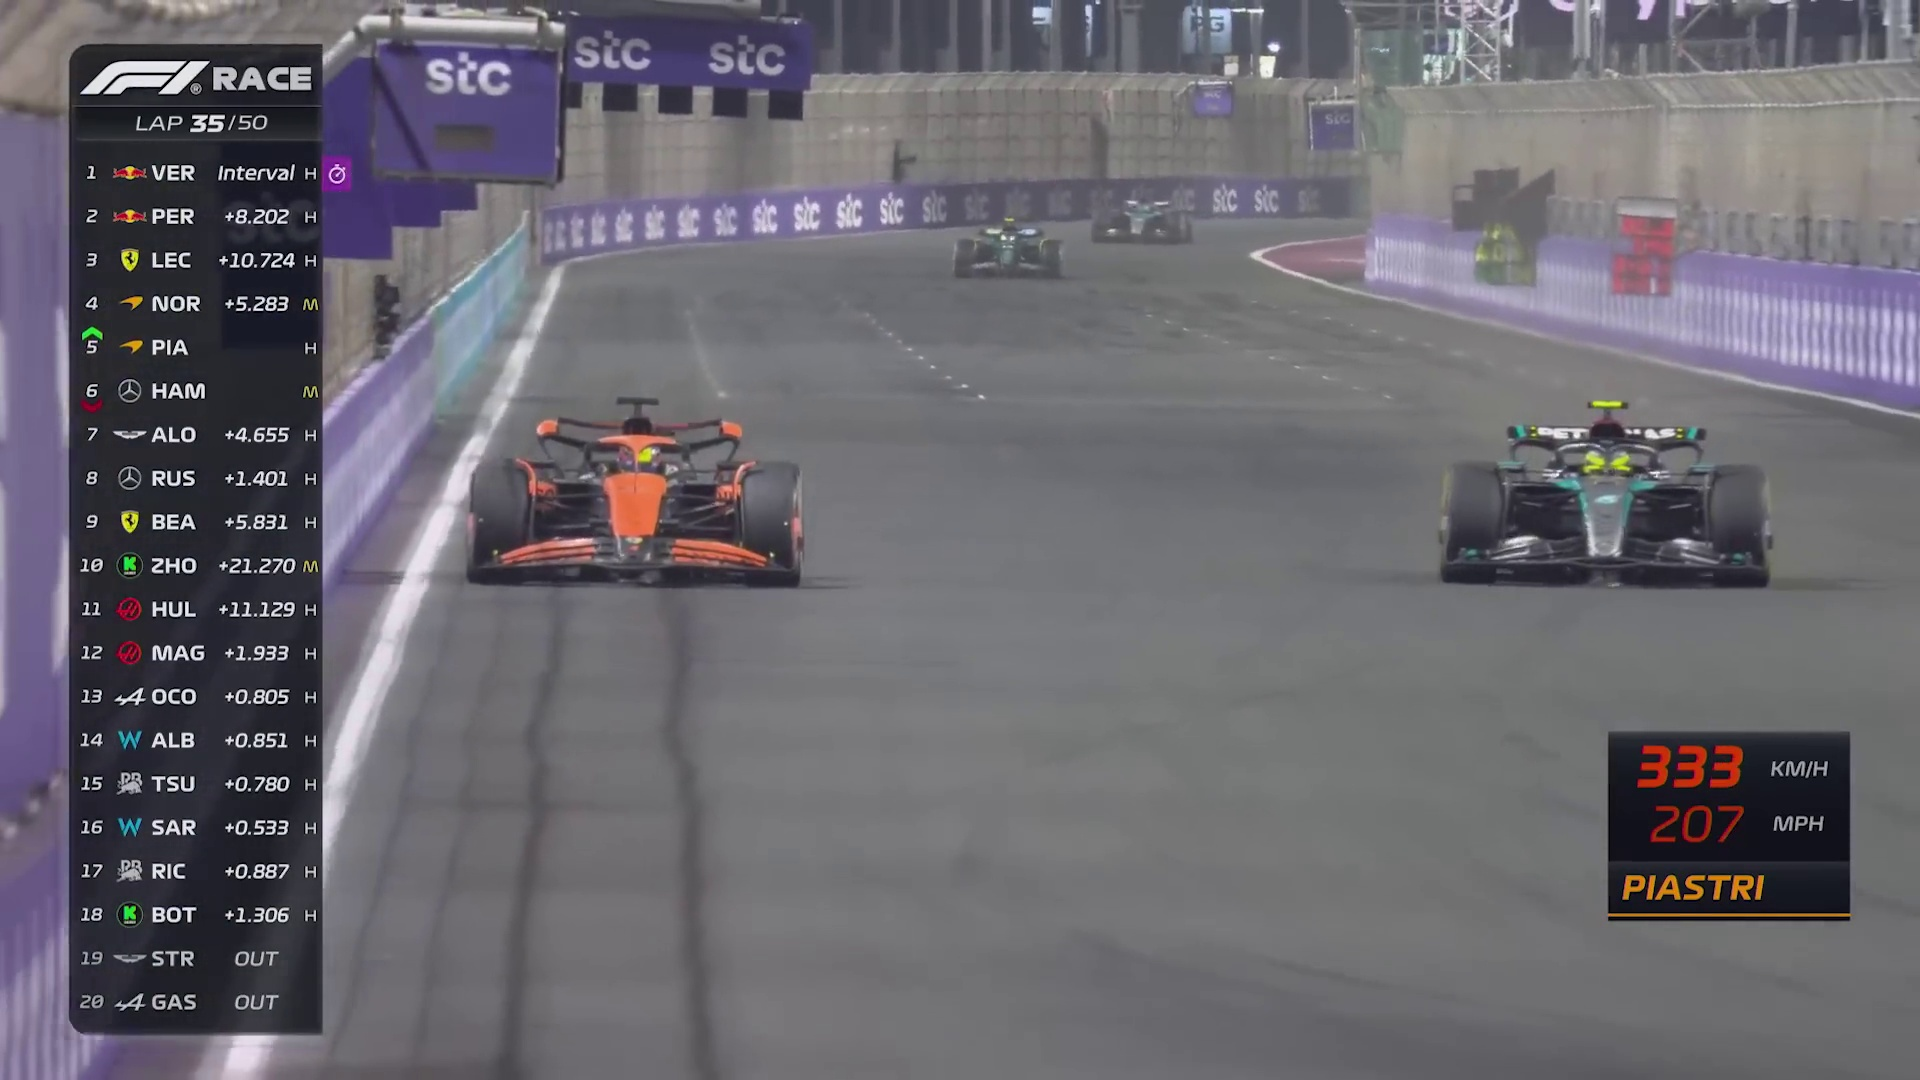AstonMartin: (955, 226, 1064, 279)
Mclaren: (467, 416, 806, 588)
Mercedes: (1439, 421, 1773, 588), (1093, 199, 1192, 243)
